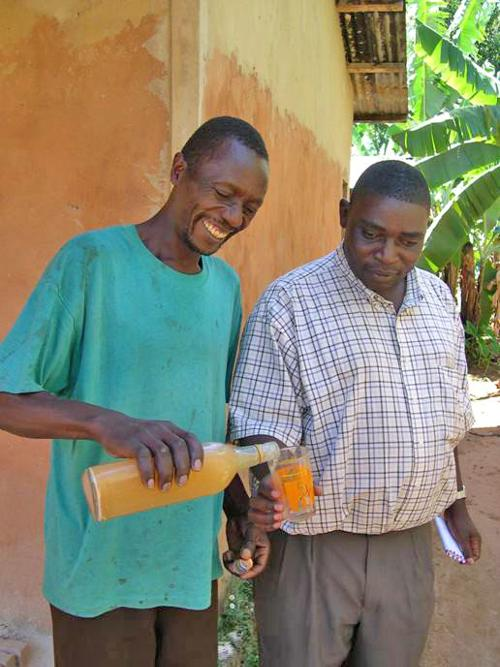person: (1, 116, 271, 664)
